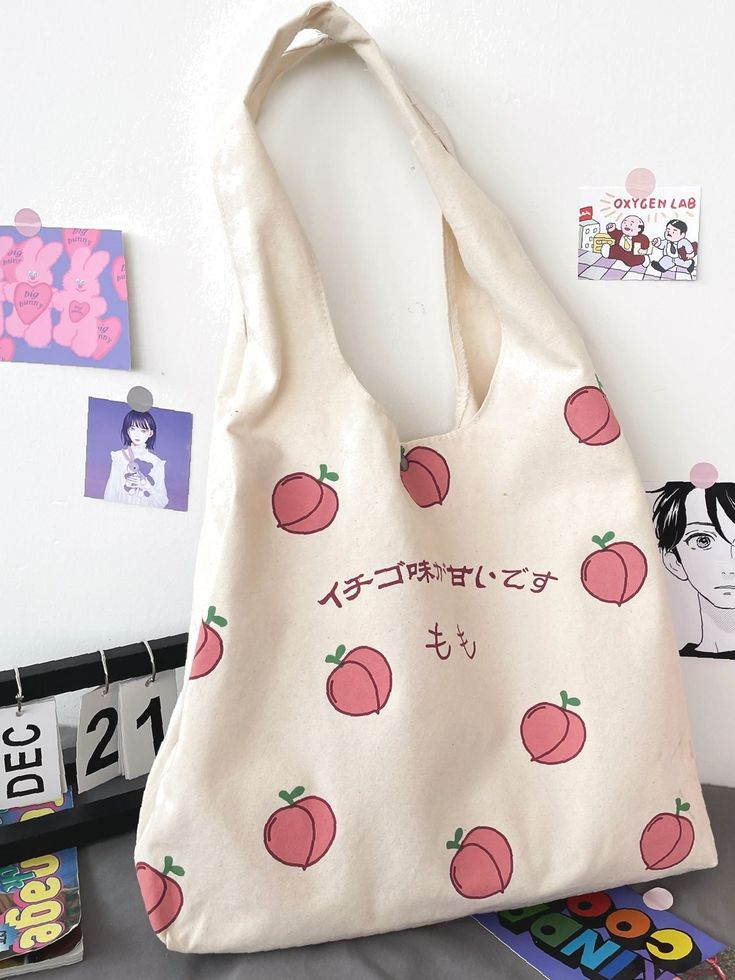nylon: (132, 1, 718, 955)
